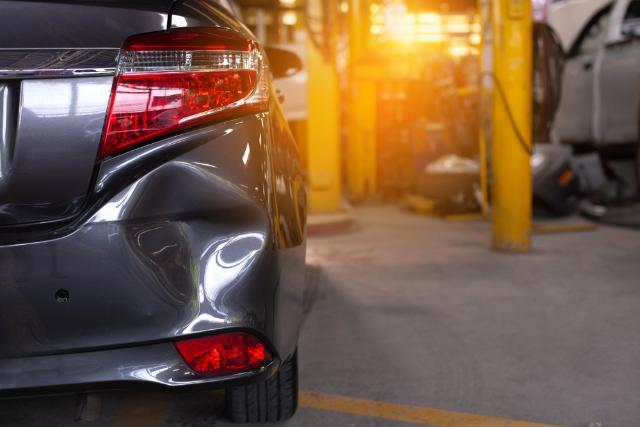dent: (123, 164, 267, 321)
